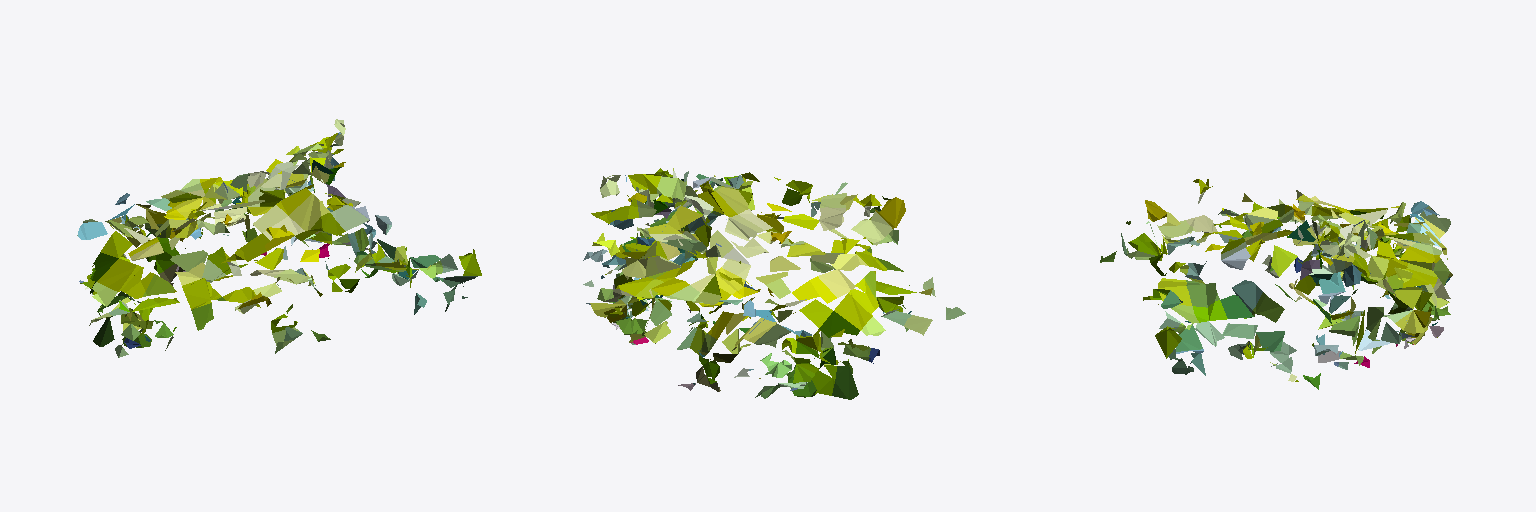
The picture shows the model from 3 angles: view 1: azimuth 30°, elevation 25°; view 2: azimuth 150°, elevation 25°; view 3: azimuth 270°, elevation 25°; orthographic projection.
Size of the model in its own units: 2.4 by 1.13 by 2.16.
Materials: 1 (1 with a texture image).